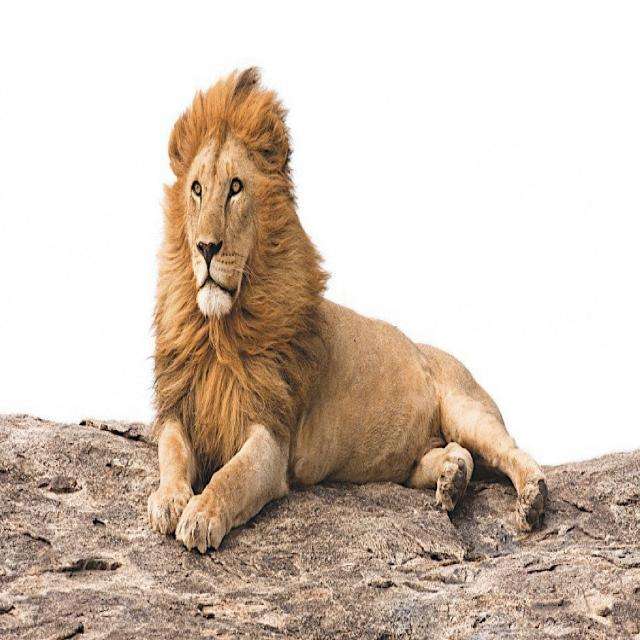lion: (148, 68, 547, 552)
